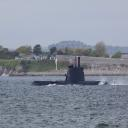submarine: (31, 57, 114, 86)
